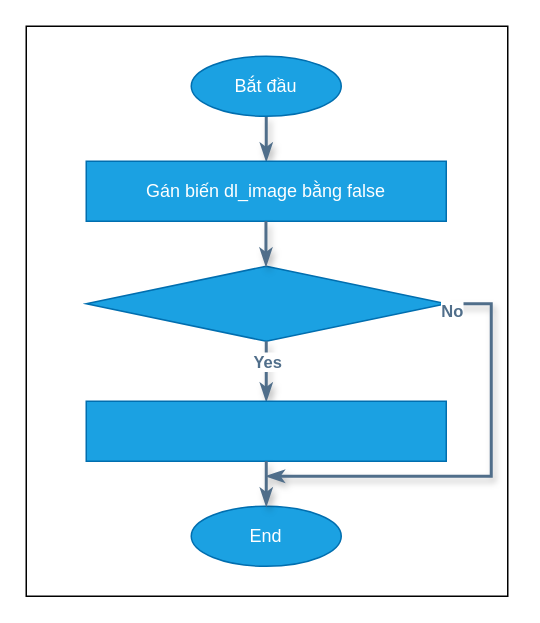
The diagram is 540 pixels wide and 623 high, and some of its shapes have lost their labels. Here are the shapes that lost their labels. From the top down, the centre of each, then its label:
point (265, 303): Message nhận được là "dl_image"?
point (265, 430): Gán biến dl_image bằng true
